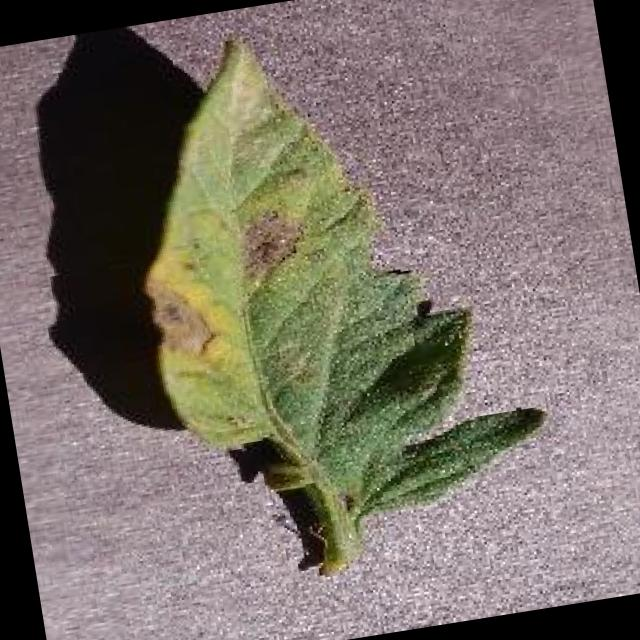Tomato_Early_Blight: (120, 198, 320, 448)
